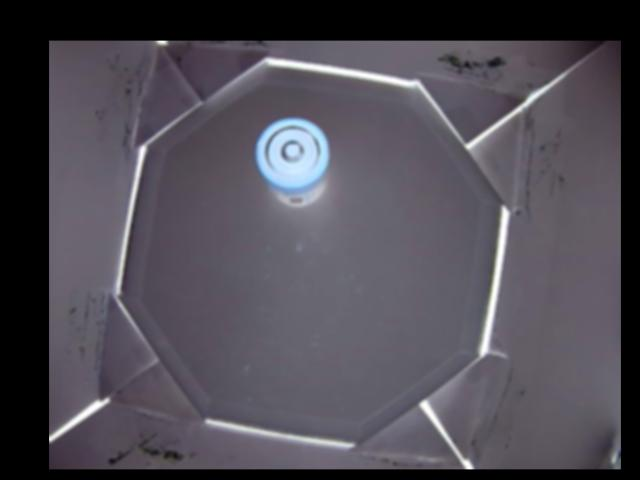Battery: (257, 118, 327, 205)
